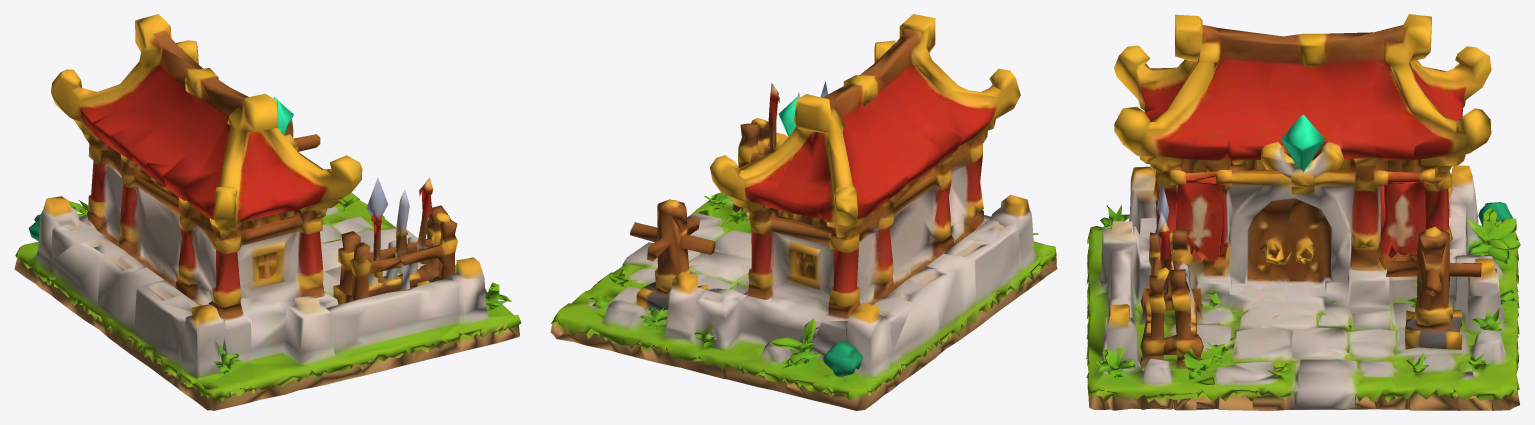
Rendered from cn_barracks.glb.
The picture shows the model from 3 angles, left to right: view 1: azimuth 30°, elevation 25°; view 2: azimuth 150°, elevation 25°; view 3: azimuth 270°, elevation 25°; orthographic projection. The views are drawn at different scales.
Parts seen in each view (by area): view 1: tripo_node_984acb77-b74b-44ec-b3be-52a930495809; view 2: tripo_node_984acb77-b74b-44ec-b3be-52a930495809; view 3: tripo_node_984acb77-b74b-44ec-b3be-52a930495809.
Part boxes in pixels (x1,y1,x2,y2): tripo_node_984acb77-b74b-44ec-b3be-52a930495809: [14, 14, 521, 410]; tripo_node_984acb77-b74b-44ec-b3be-52a930495809: [550, 14, 1057, 410]; tripo_node_984acb77-b74b-44ec-b3be-52a930495809: [1086, 14, 1520, 410].
Size of the model in its own units: 0.9121 by 0.7017 by 0.9982.
1 material, 1 textured.
